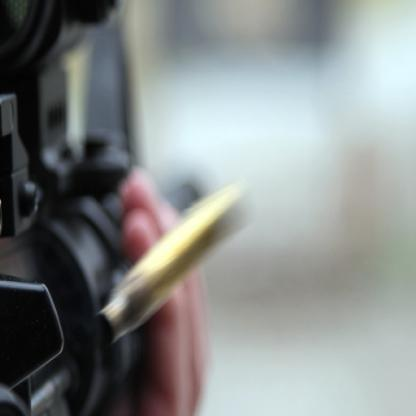gun: (0, 0, 206, 415)
